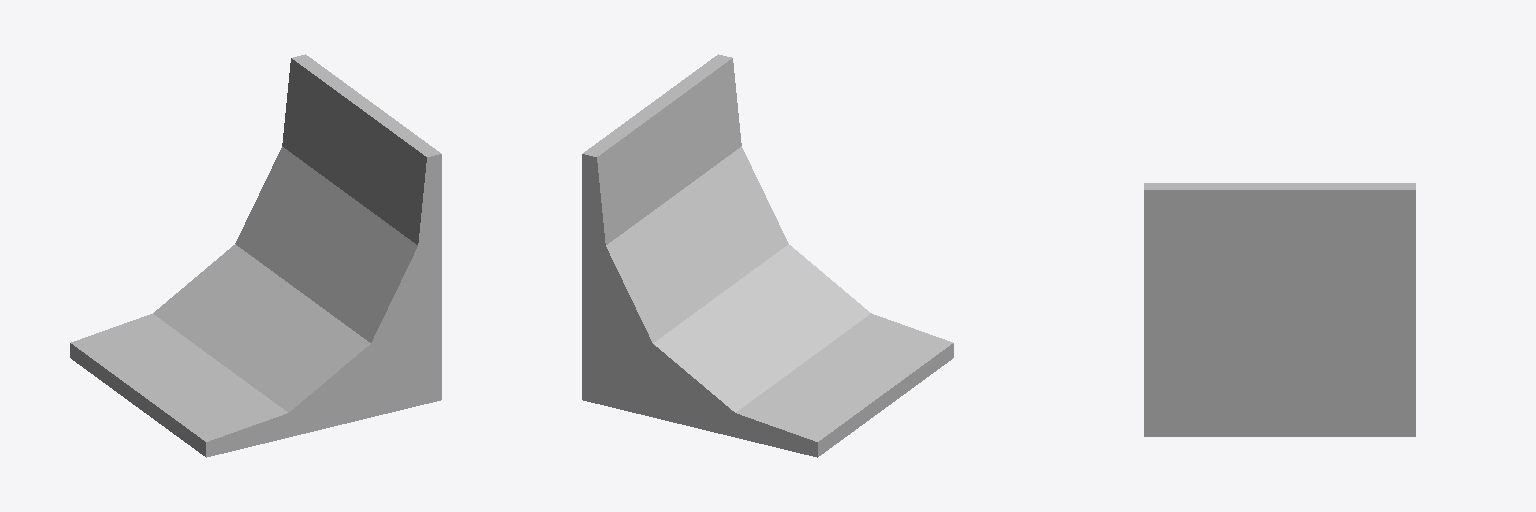
Rendered from arc.obj.
3 views of the same model, side by side, from view 1: azimuth 30°, elevation 25°; view 2: azimuth 150°, elevation 25°; view 3: azimuth 270°, elevation 25° (orthographic).
Parts seen in each view (by area): view 1: bottom, front, right; view 2: bottom, back, right; view 3: left, bottom.
Boxes of the visible parts, x1,y1,x2,y2 form: bottom: [71, 54, 440, 441]; front: [206, 154, 441, 457]; right: [70, 343, 205, 456]; bottom: [583, 54, 952, 441]; back: [582, 154, 817, 457]; right: [818, 343, 953, 456]; left: [1144, 190, 1415, 436]; bottom: [1144, 183, 1415, 189].
Size of the model in its own units: 1 by 1 by 1.